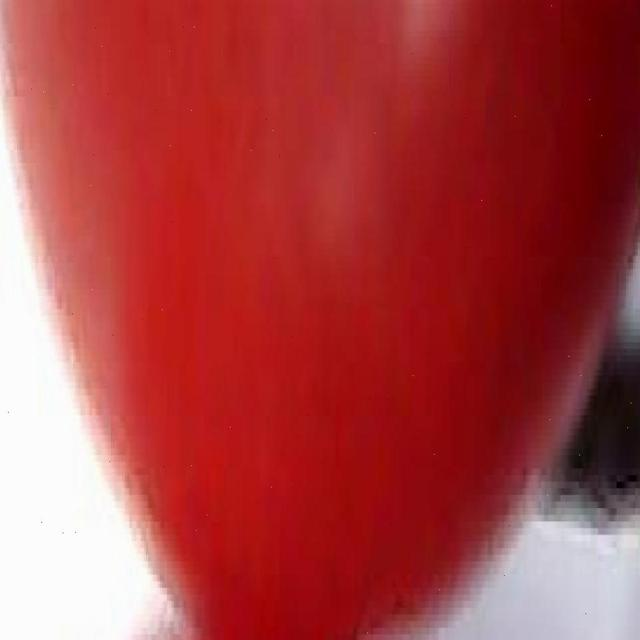Healthy Fruit: (0, 0, 422, 425)
